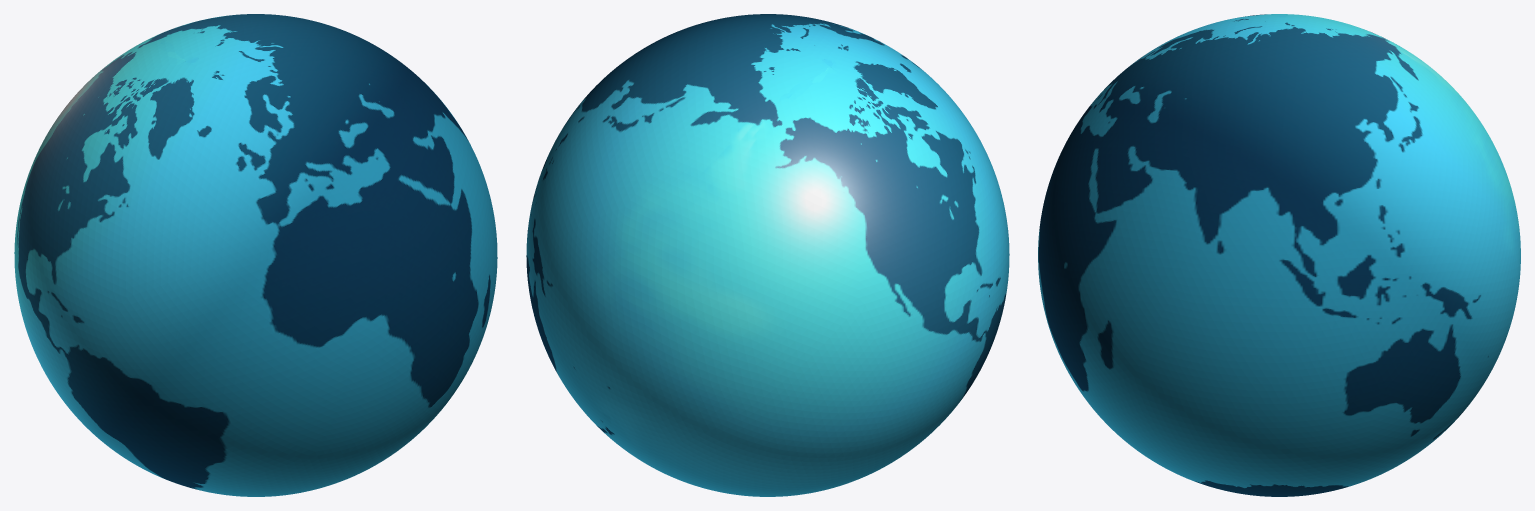
File: blue_earth.dae
The picture shows the model from 3 angles, left to right: view 1: azimuth 30°, elevation 25°; view 2: azimuth 150°, elevation 25°; view 3: azimuth 270°, elevation 25°; orthographic projection.
Visible parts, largest first — view 1: World; view 2: World; view 3: World.
Boxes of the visible parts, box(x1,y1,x2,y2) form: World: box(14, 14, 497, 496); World: box(526, 14, 1009, 496); World: box(1038, 14, 1520, 496).
Bounding box in the file's own units: 99.99 × 99.99 × 100.
Materials: 1 (1 with a texture image).
